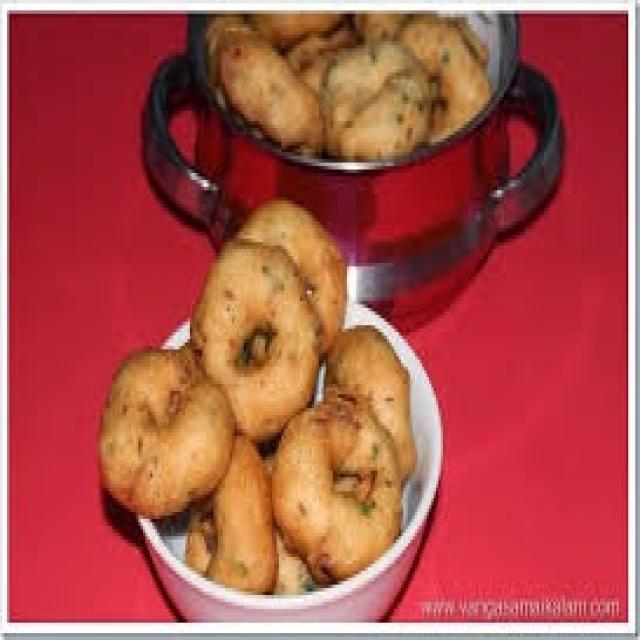medu vadai: (212, 11, 493, 128), (192, 242, 323, 440), (99, 345, 234, 517), (277, 398, 406, 574), (243, 198, 346, 348), (186, 434, 279, 592), (325, 326, 414, 477), (401, 15, 491, 141)
